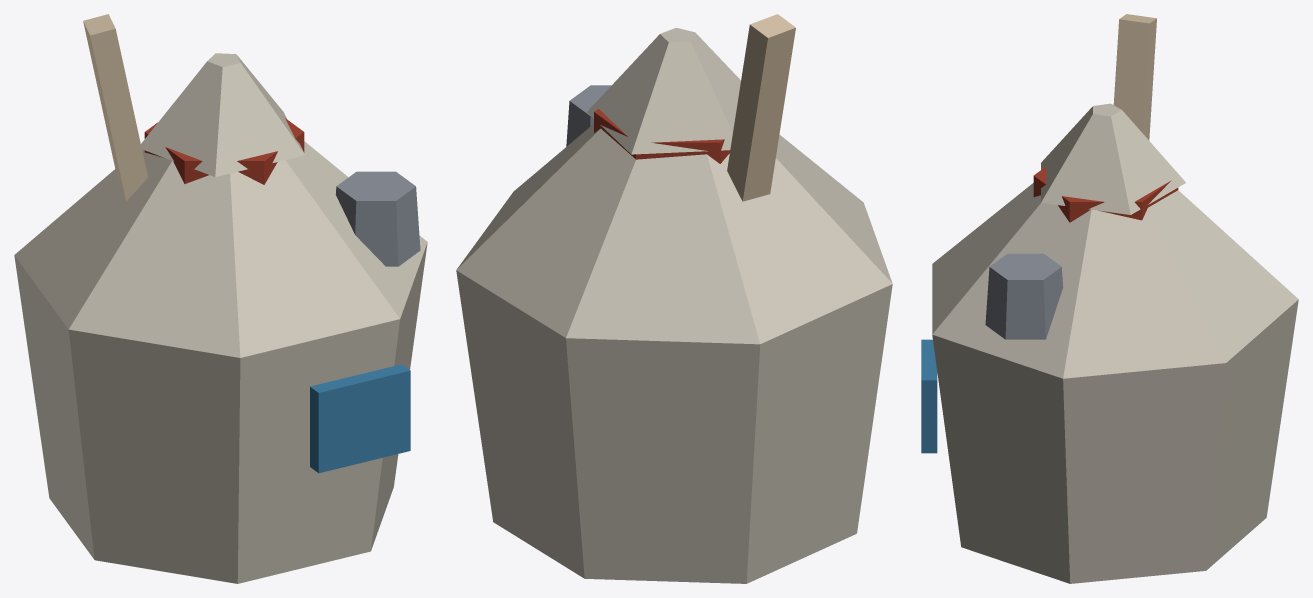
Rendered from bundle.glb.
3 views of the same model, side by side, from view 1: azimuth 30°, elevation 25°; view 2: azimuth 150°, elevation 25°; view 3: azimuth 270°, elevation 25° (orthographic). The views are drawn at different scales.
Parts seen in each view (by area): view 1: bone_d15, tide, slate_l20, driftwood_l20, coal_d10; view 2: bone_d15, driftwood_l20, coal_d10, slate_l20; view 3: bone_d15, slate_l20, driftwood_l20, tide, coal_d10.
Boxes of the visible parts, x1=… form: bone_d15: x1=14, y1=53, x2=427, y2=583; tide: x1=310, y1=364, x2=410, y2=473; slate_l20: x1=335, y1=171, x2=420, y2=266; driftwood_l20: x1=83, y1=14, x2=147, y2=201; coal_d10: x1=144, y1=118, x2=304, y2=184; bone_d15: x1=456, y1=27, x2=892, y2=583; driftwood_l20: x1=727, y1=14, x2=795, y2=201; coal_d10: x1=594, y1=109, x2=730, y2=163; slate_l20: x1=566, y1=85, x2=611, y2=146; bone_d15: x1=932, y1=103, x2=1298, y2=583; slate_l20: x1=985, y1=253, x2=1063, y2=339; driftwood_l20: x1=1113, y1=14, x2=1156, y2=140; tide: x1=921, y1=339, x2=937, y2=453; coal_d10: x1=1033, y1=166, x2=1178, y2=222.
Size of the model in its own units: 0.468 by 0.6229 by 0.47.
